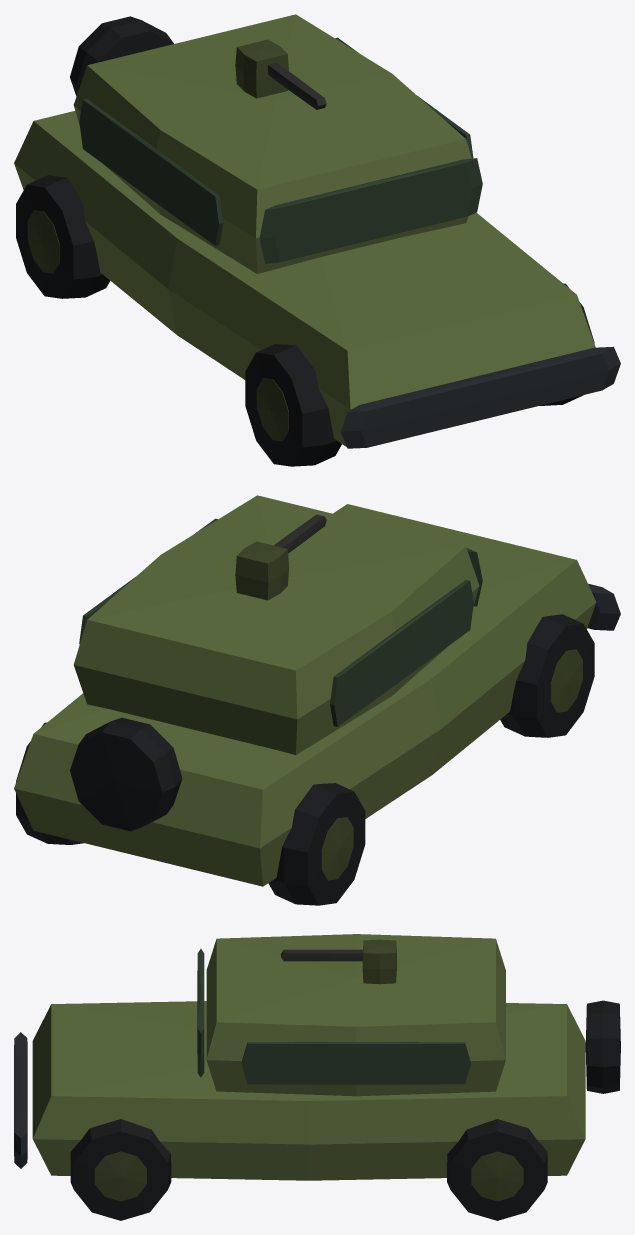
File: s-humvee.glb
The picture shows the model from 3 angles, top to bottom: view 1: azimuth 30°, elevation 25°; view 2: azimuth 150°, elevation 25°; view 3: azimuth 270°, elevation 25°; orthographic projection. The views are drawn at different scales.
Visible parts, largest first — view 1: p; view 2: p; view 3: p.
Boxes of the visible parts, x1=… form: p: x1=14, y1=14, x2=620, y2=466; p: x1=14, y1=495, x2=620, y2=905; p: x1=14, y1=934, x2=620, y2=1220.
Bounding box in the file's own units: 2.4 × 2.06 × 5.16.
